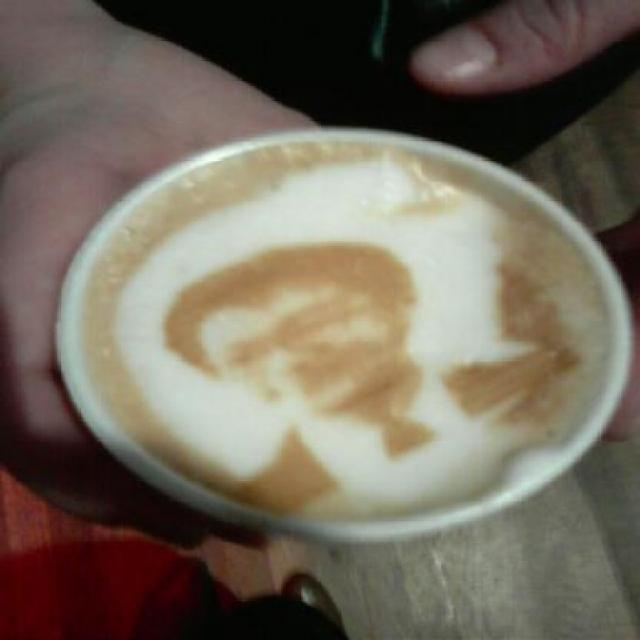Milk: (0, 114, 557, 588)
